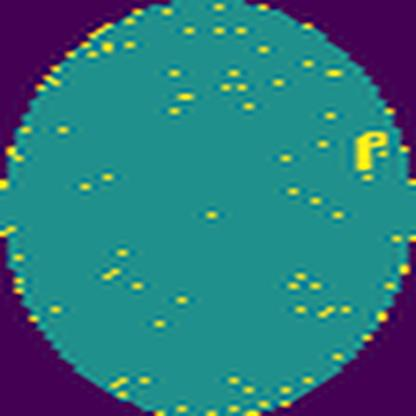Loc: (356, 130, 390, 172)
